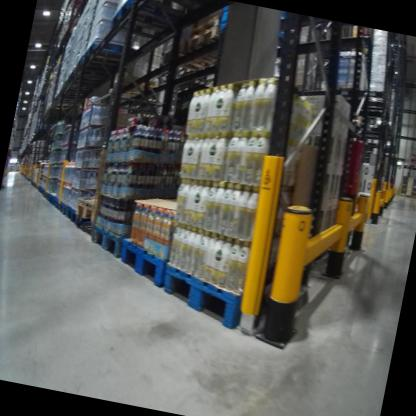pallet: (65, 36, 145, 228), (160, 237, 310, 332), (106, 0, 201, 49), (116, 234, 171, 290), (180, 20, 241, 66), (89, 216, 148, 263), (160, 37, 217, 80), (72, 190, 116, 226), (111, 71, 164, 99)
